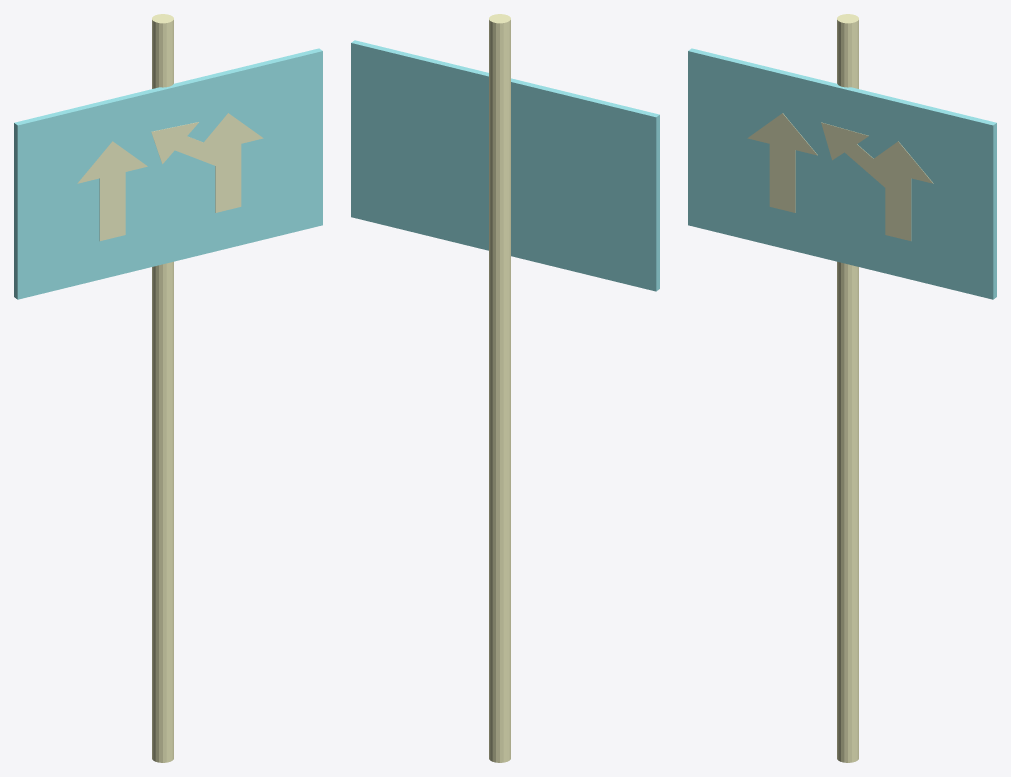
Rendered from sign_lane_direction.glb.
The picture shows the model from 3 angles, left to right: view 1: azimuth 30°, elevation 25°; view 2: azimuth 150°, elevation 25°; view 3: azimuth 330°, elevation 25°; orthographic projection.
Visible parts, largest first — view 1: plate_base_00, pole, layer_1_00, layer_1_02, layer_1_01, layer_1_03, layer_1_05, layer_1_04; view 2: plate_base_00, pole; view 3: plate_base_00, pole, layer_1_00, layer_1_02, layer_1_03, layer_1_01, layer_1_05, layer_1_04.
Part boxes in pixels (x1,y1,x2,y2): plate_base_00: (14,48,322,299); pole: (152,14,173,762); layer_1_00: (99,172,125,240); layer_1_02: (215,144,241,212); layer_1_01: (77,141,147,183); layer_1_03: (193,113,263,155); layer_1_05: (151,122,198,163); layer_1_04: (175,136,233,167); plate_base_00: (351,40,659,291); pole: (489,14,510,762); plate_base_00: (688,48,996,299); pole: (837,14,858,762); layer_1_00: (769,144,795,212); layer_1_02: (885,172,911,240); layer_1_03: (863,141,933,183); layer_1_01: (747,113,817,155); layer_1_05: (821,122,868,160); layer_1_04: (845,144,903,193).
Bounding box in the file's own units: 0.95 × 2.2 × 0.071.
